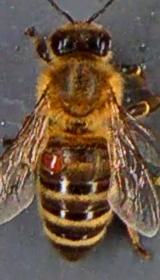varroa_mite: (41, 148, 69, 182)
